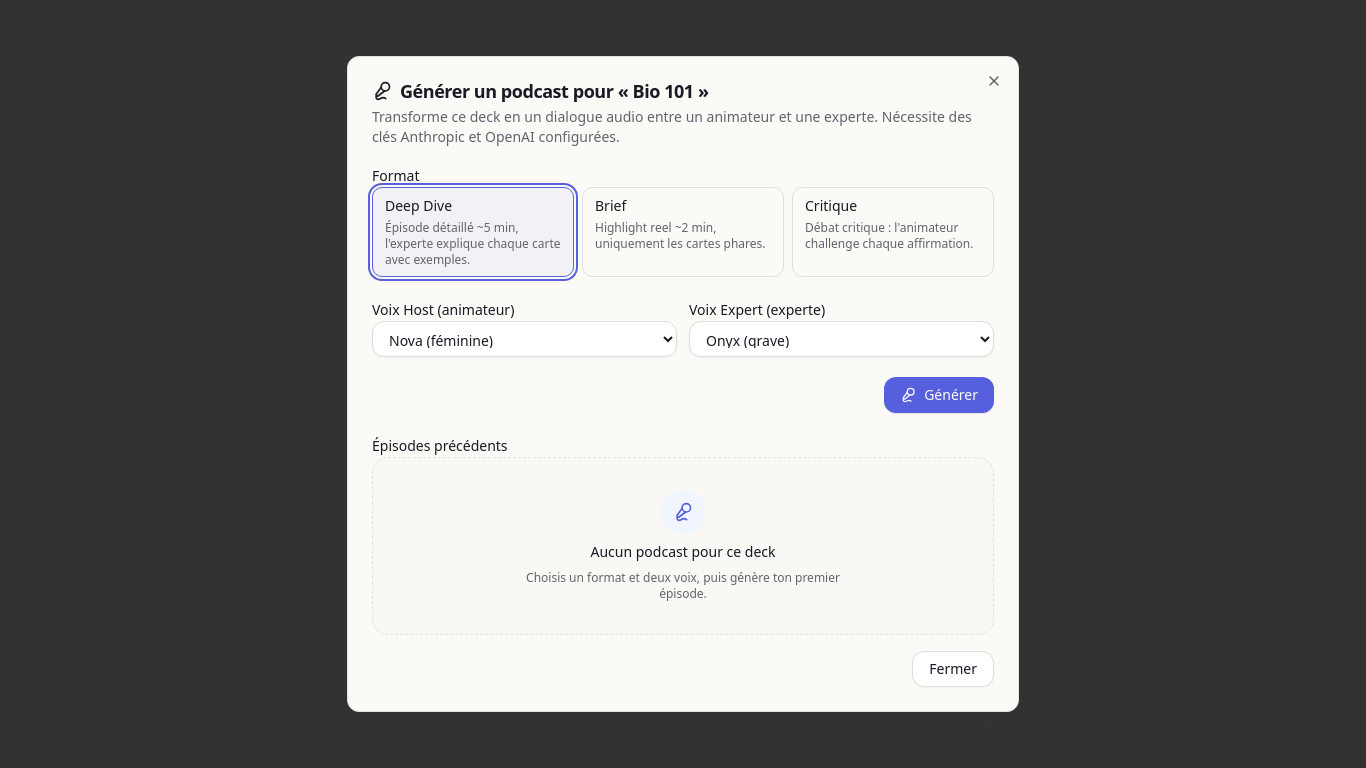
DeckPodcastDialog › disables generation and warns when both voices match
Select "Onyx (grave)" in the dropdown labelled "Voix Host (animateur)": (524, 339) [372, 321, 677, 357]
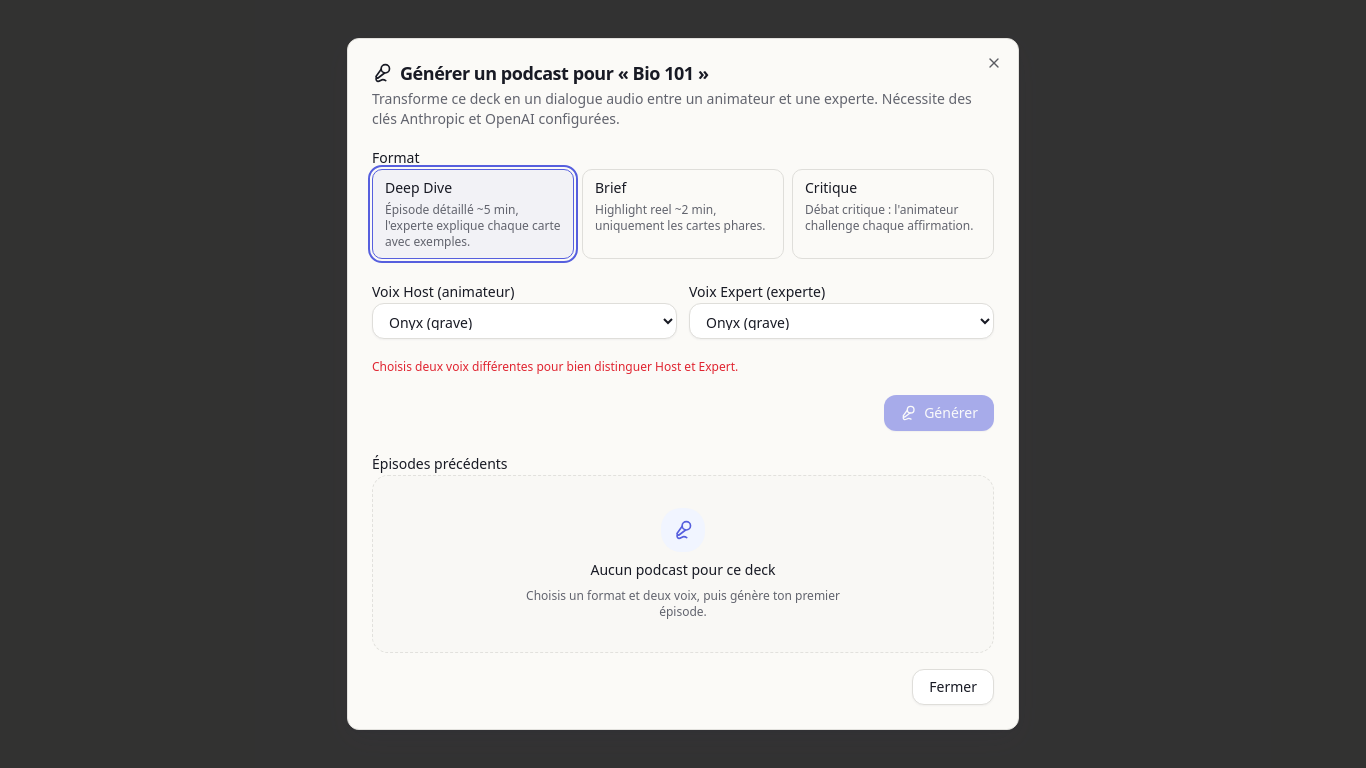
Check: the text "deux voix différentes" is shown, box [372, 358, 738, 375]
Check: the button with aria-label "Générer le podcast" is disabled, box [884, 395, 994, 431]
